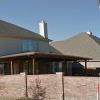Chimney: (34, 15, 58, 50)
